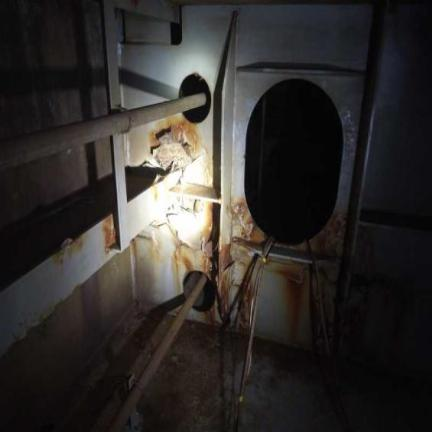besi_tidak_karat: (0, 217, 119, 354), (0, 93, 204, 170), (108, 274, 206, 431), (213, 11, 236, 291), (109, 132, 128, 251), (102, 0, 120, 113), (127, 188, 154, 239)
karat: (151, 120, 197, 169), (282, 273, 305, 337), (154, 131, 191, 170), (102, 215, 115, 252)
